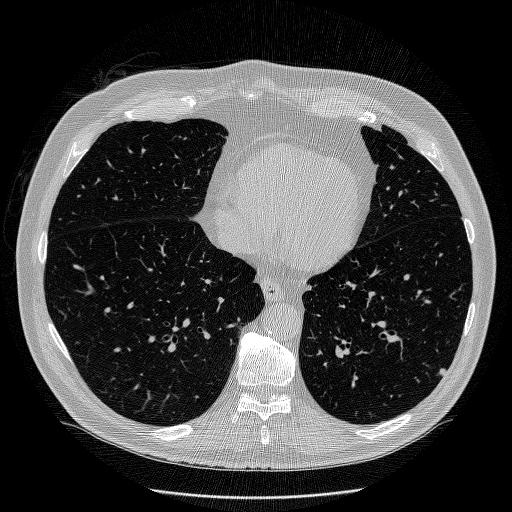nodule: (436, 365, 449, 378)
